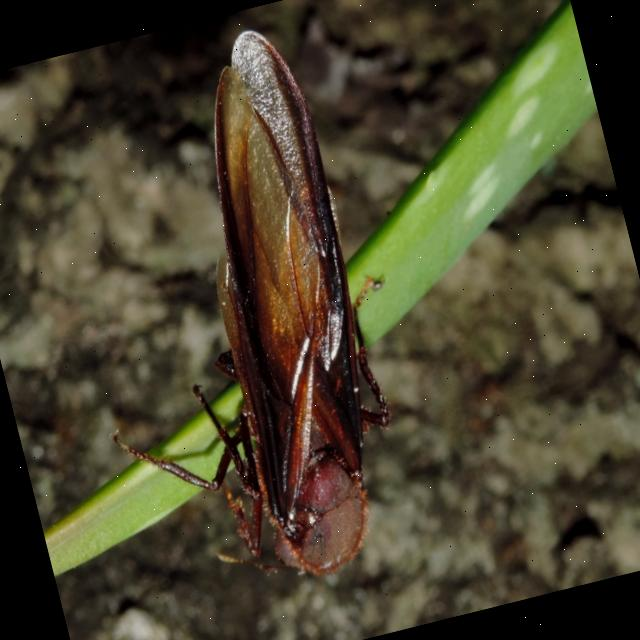Alive-Female-Alate: (24, 12, 450, 616)
